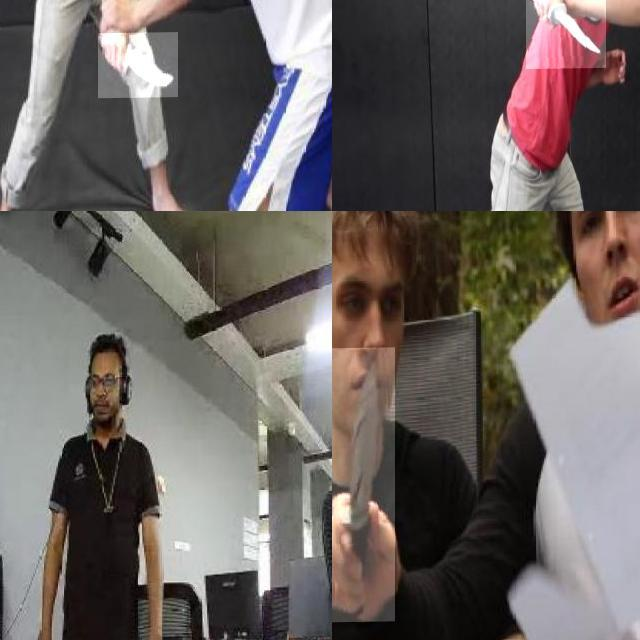-: (332, 348, 395, 623), (525, 0, 606, 69), (98, 33, 178, 99)
